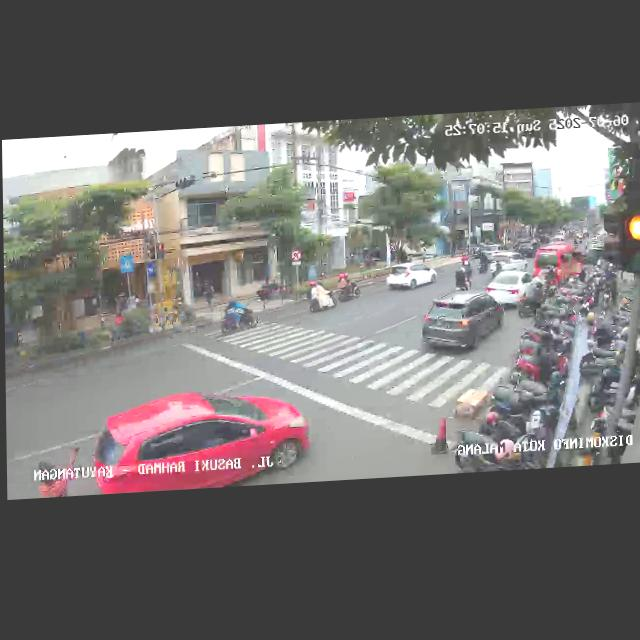car: (92, 385, 311, 494), (419, 291, 504, 357), (535, 241, 588, 289), (484, 268, 541, 310), (385, 260, 436, 293), (490, 250, 529, 276)
motorcycle: (219, 295, 257, 337), (306, 277, 335, 315), (335, 271, 360, 304), (454, 264, 473, 293), (478, 250, 488, 273)
